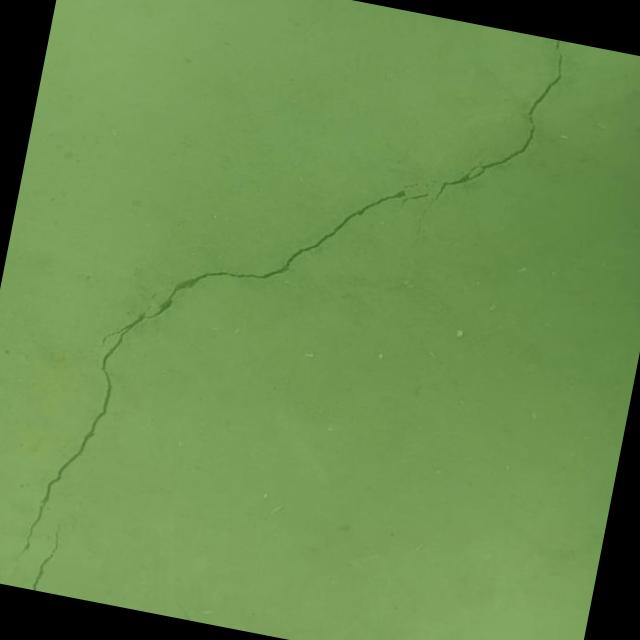crack: (14, 120, 419, 622), (412, 21, 569, 271), (31, 516, 64, 594), (390, 186, 430, 221), (138, 288, 162, 310), (426, 180, 438, 190)
